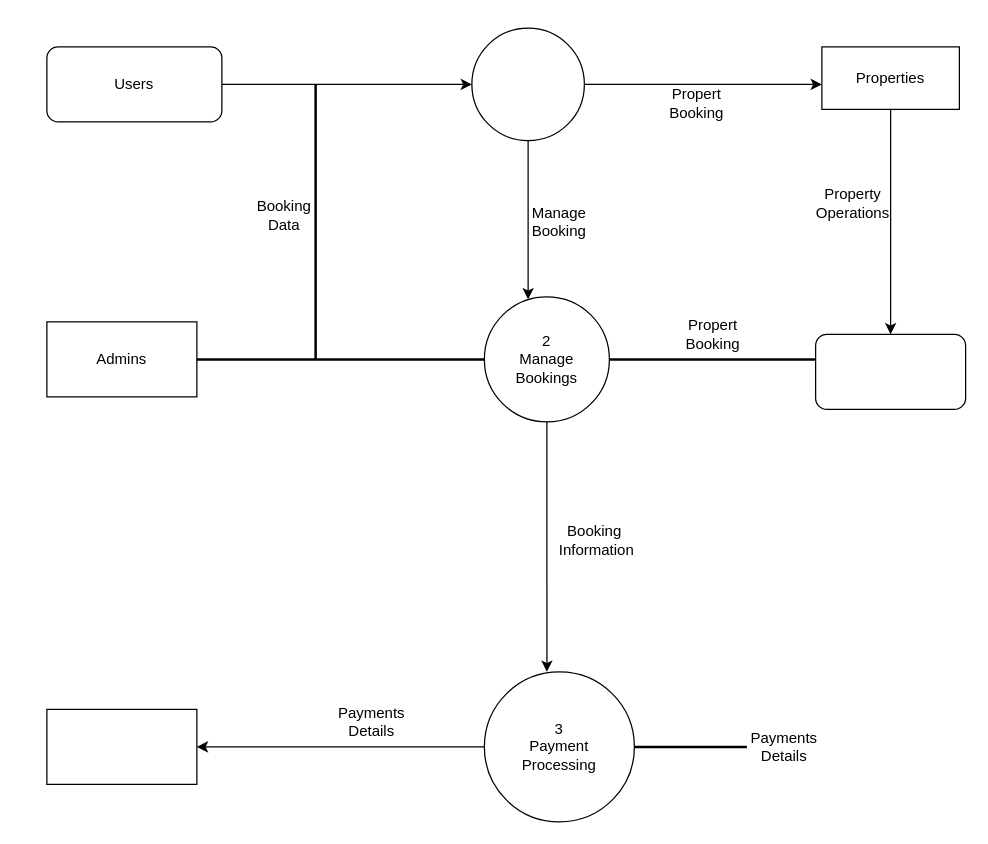
Some shapes in this 988 by 844 pixel diagram are drawn without their labels. Here are the shapes that lost their labels. From the top down, the centre of each, then its label:
point 527,84: 1 Users Managements
point 890,371: Payments
point 121,746: Exits
